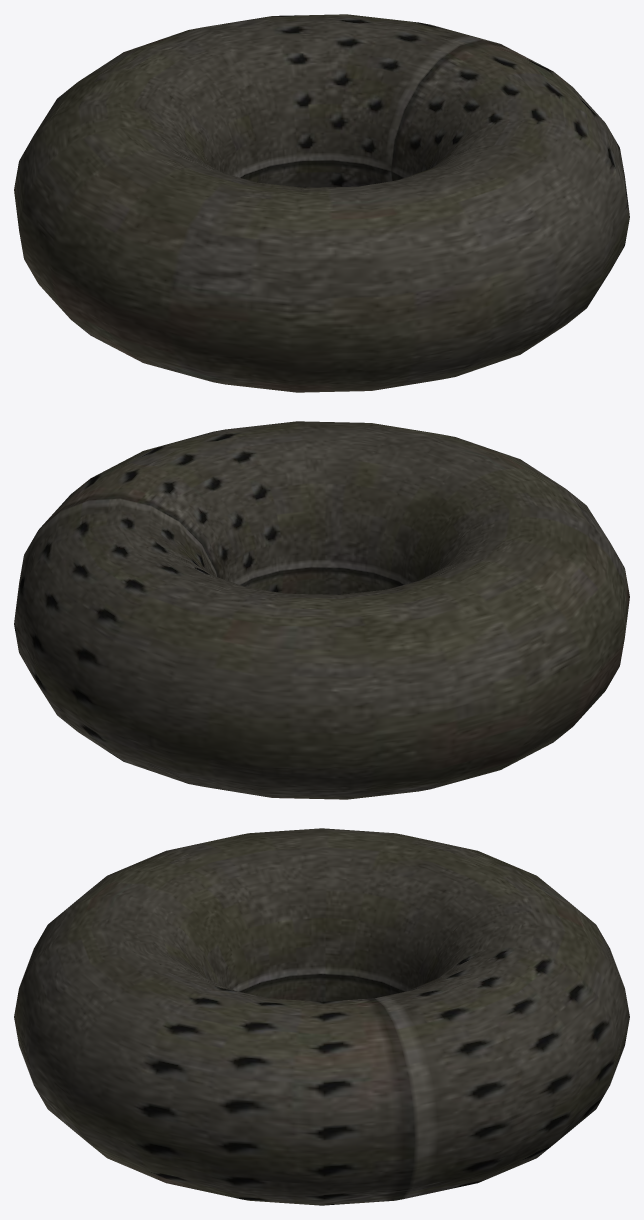
The model's file is candyblue.obj.
3 views of the same model, one above another, from view 1: azimuth 30°, elevation 25°; view 2: azimuth 150°, elevation 25°; view 3: azimuth 270°, elevation 25° (orthographic).
Visible parts, largest first — view 1: pTorus1; view 2: pTorus1; view 3: pTorus1.
Part boxes in pixels (bbox=[...]): pTorus1: bbox=[14, 14, 629, 392]; pTorus1: bbox=[14, 421, 629, 799]; pTorus1: bbox=[14, 828, 629, 1205].
Size of the model in its own units: 3 by 1 by 3.
